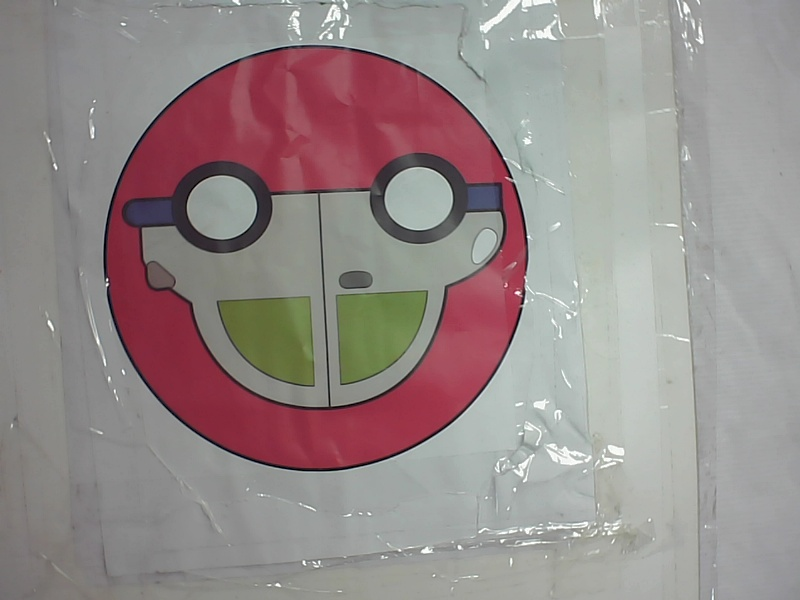areaC: (89, 46, 542, 471)
